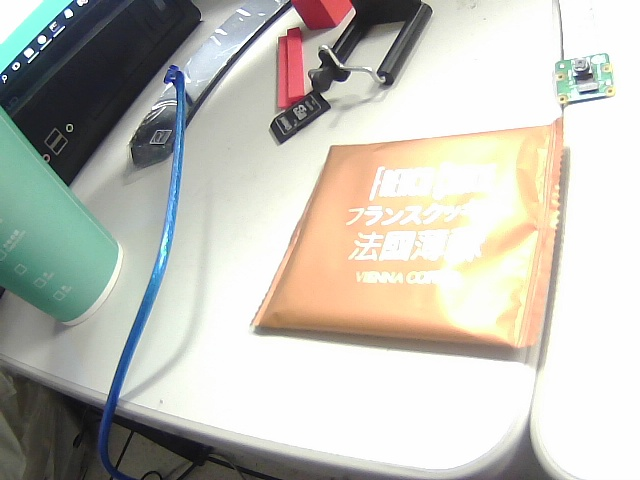frenchcookie: (247, 116, 568, 385)
